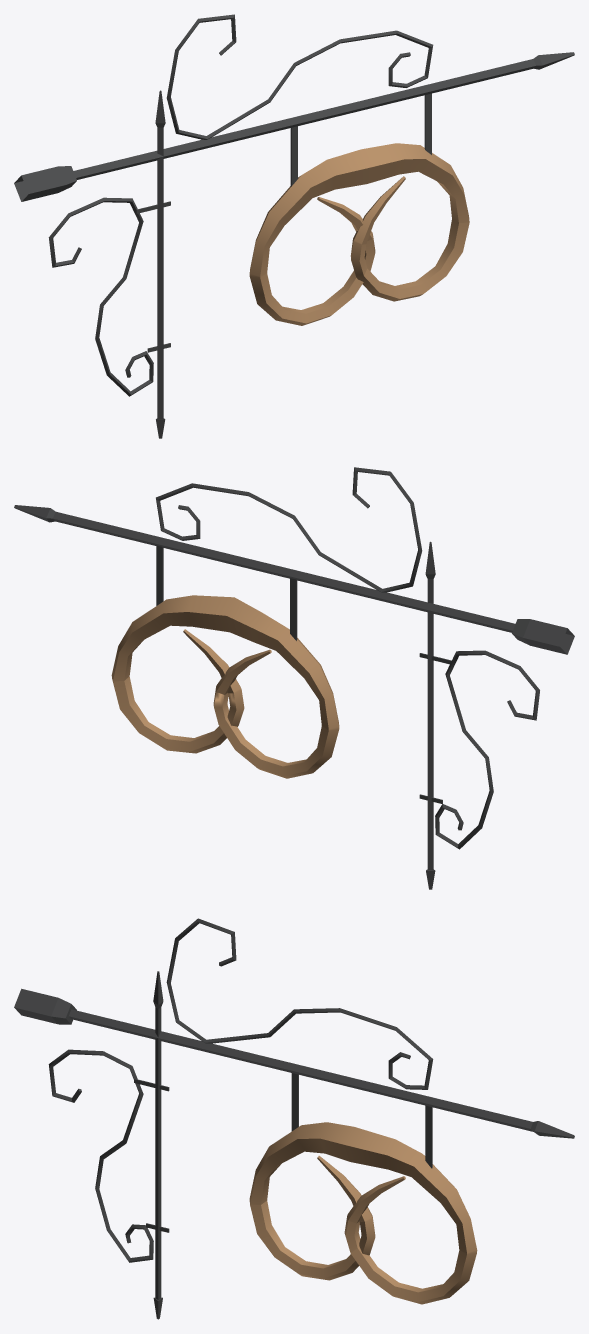
Rendered from SM_storesign_06.fbx.
3 renders of one model, top to bottom at view 1: azimuth 30°, elevation 25°; view 2: azimuth 150°, elevation 25°; view 3: azimuth 330°, elevation 25°, orthographic.
Parts seen in each view (by area): view 1: Line065; view 2: Line065; view 3: Line065.
Part boxes in pixels (bbox=[...]): Line065: bbox=[14, 14, 574, 438]; Line065: bbox=[14, 467, 574, 889]; Line065: bbox=[14, 918, 574, 1319].
Bounding box in the file's own units: 60.32 × 3.97 × 42.67.
